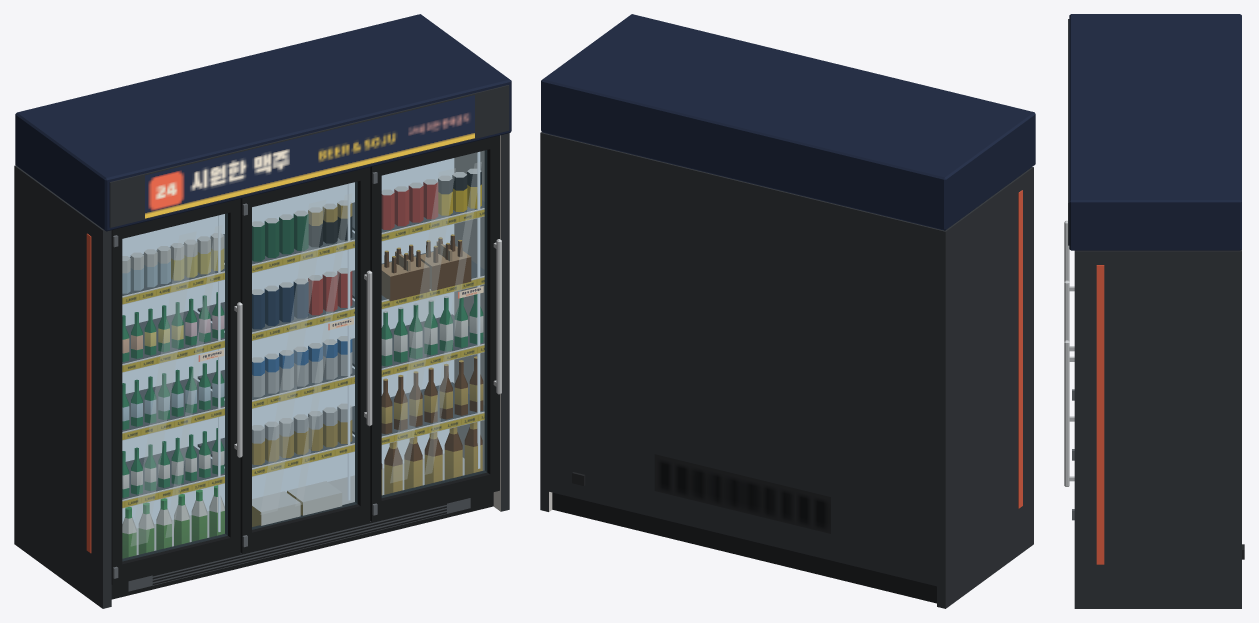
File: SC_Fix_Fridge_Beer_3Door.gltf
The picture shows the model from 3 angles, left to right: view 1: azimuth 30°, elevation 25°; view 2: azimuth 150°, elevation 25°; view 3: azimuth 270°, elevation 25°; orthographic projection. The views are drawn at different scales.
Parts seen in each view (by area): view 1: SC_Fix_Fridge_Beer_3Door; view 2: SC_Fix_Fridge_Beer_3Door; view 3: SC_Fix_Fridge_Beer_3Door.
Boxes of the visible parts, x1,y1,x2,y2 form: SC_Fix_Fridge_Beer_3Door: (14,14,511,608); SC_Fix_Fridge_Beer_3Door: (540,14,1035,608); SC_Fix_Fridge_Beer_3Door: (1064,14,1244,608).
Size of the model in its own units: 2.08 by 2.1 by 0.84.
Materials: 5 (5 with a texture image).
